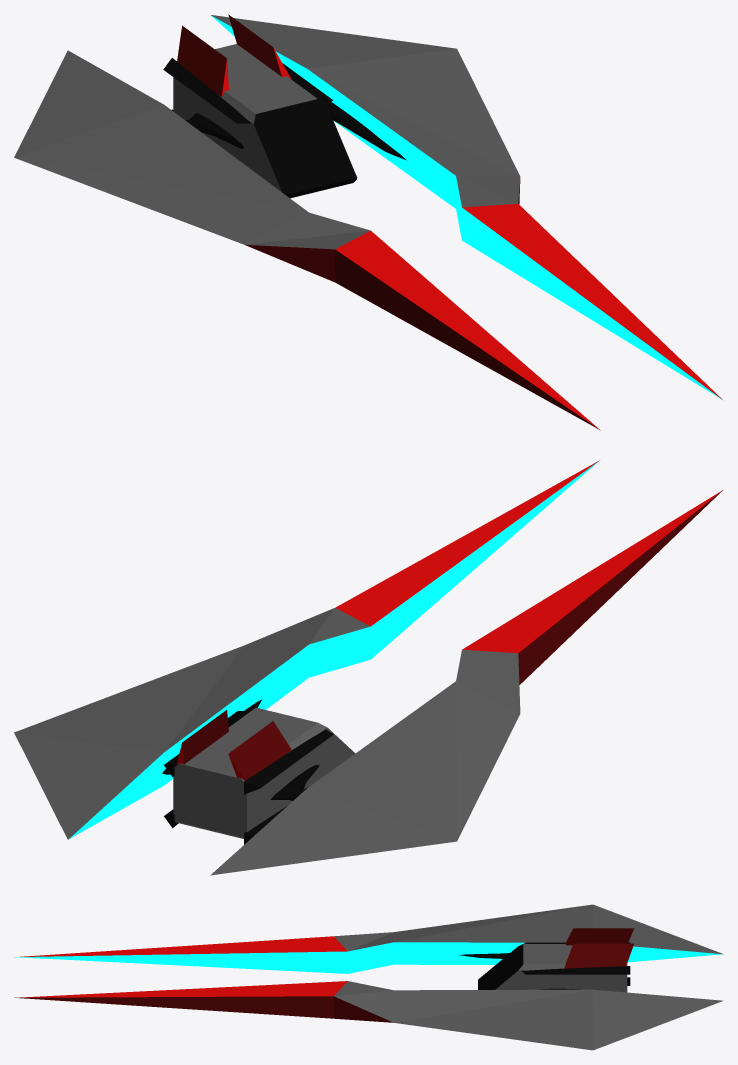
Rendered from FoxShip.fbx.
The picture shows the model from 3 angles, top to bottom: view 1: azimuth 30°, elevation 25°; view 2: azimuth 150°, elevation 25°; view 3: azimuth 270°, elevation 25°; orthographic projection. The views are drawn at different scales.
Parts seen in each view (by area): view 1: pasted__pCube2, pasted__pCube3, pCube1, pasted__pCube1, pCube4, pasted__pCube7, pCube5, pCylinder5; view 2: pasted__pCube2, pasted__pCube3, pCube1, pCube4, pasted__pCube1, pasted__pCube7, pCube5; view 3: pasted__pCube3, pasted__pCube2, pCube1, pCube5, pCube4, pasted__pCube1, pCube6.
Part boxes in pixels (bbox=[...]): pasted__pCube2: bbox=[14, 50, 600, 430]; pasted__pCube3: bbox=[211, 15, 723, 400]; pCube1: bbox=[173, 45, 357, 198]; pasted__pCube1: bbox=[173, 44, 356, 197]; pCube4: bbox=[177, 25, 228, 96]; pasted__pCube7: bbox=[163, 58, 251, 123]; pCube5: bbox=[228, 14, 291, 79]; pCylinder5: bbox=[326, 102, 406, 160]; pasted__pCube2: bbox=[210, 490, 722, 875]; pasted__pCube3: bbox=[14, 460, 599, 839]; pCube1: bbox=[173, 707, 354, 838]; pCube4: bbox=[228, 721, 291, 780]; pasted__pCube1: bbox=[175, 708, 355, 831]; pasted__pCube7: bbox=[244, 729, 333, 794]; pCube5: bbox=[176, 710, 228, 765]; pasted__pCube3: bbox=[14, 981, 723, 1050]; pasted__pCube2: bbox=[14, 904, 723, 973]; pCube1: bbox=[478, 944, 627, 992]; pCube5: bbox=[564, 943, 633, 968]; pCube4: bbox=[565, 928, 633, 945]; pasted__pCube1: bbox=[481, 944, 627, 984]; pCube6: bbox=[521, 966, 630, 974].
Bounding box in the file's own units: 16.12 × 3.18 × 32.99.
